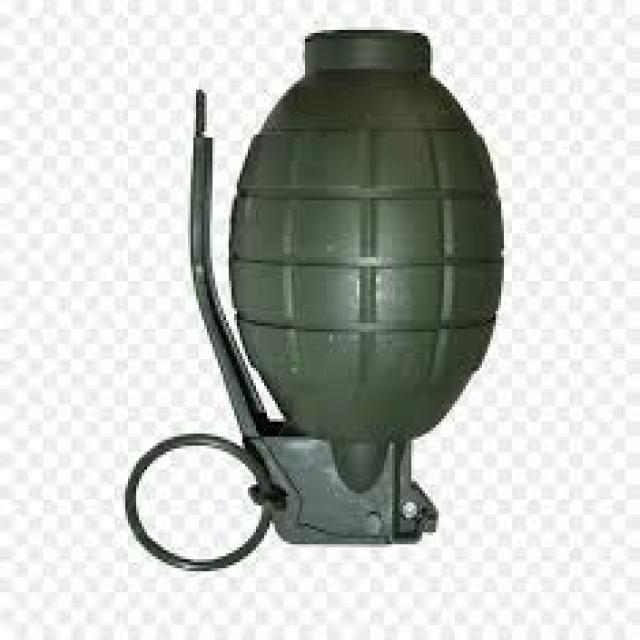grenade: (114, 25, 518, 578)
